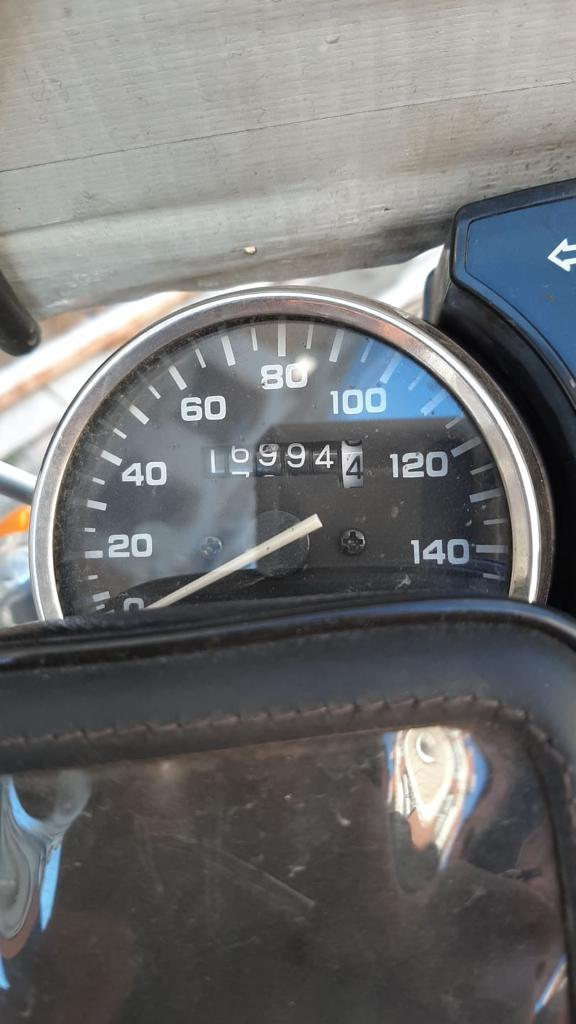1: (209, 447, 216, 473)
4: (314, 443, 334, 468), (346, 455, 363, 479)
6: (230, 438, 249, 463)
9: (286, 442, 306, 468), (258, 441, 277, 466)
odometer: (197, 436, 366, 492)
